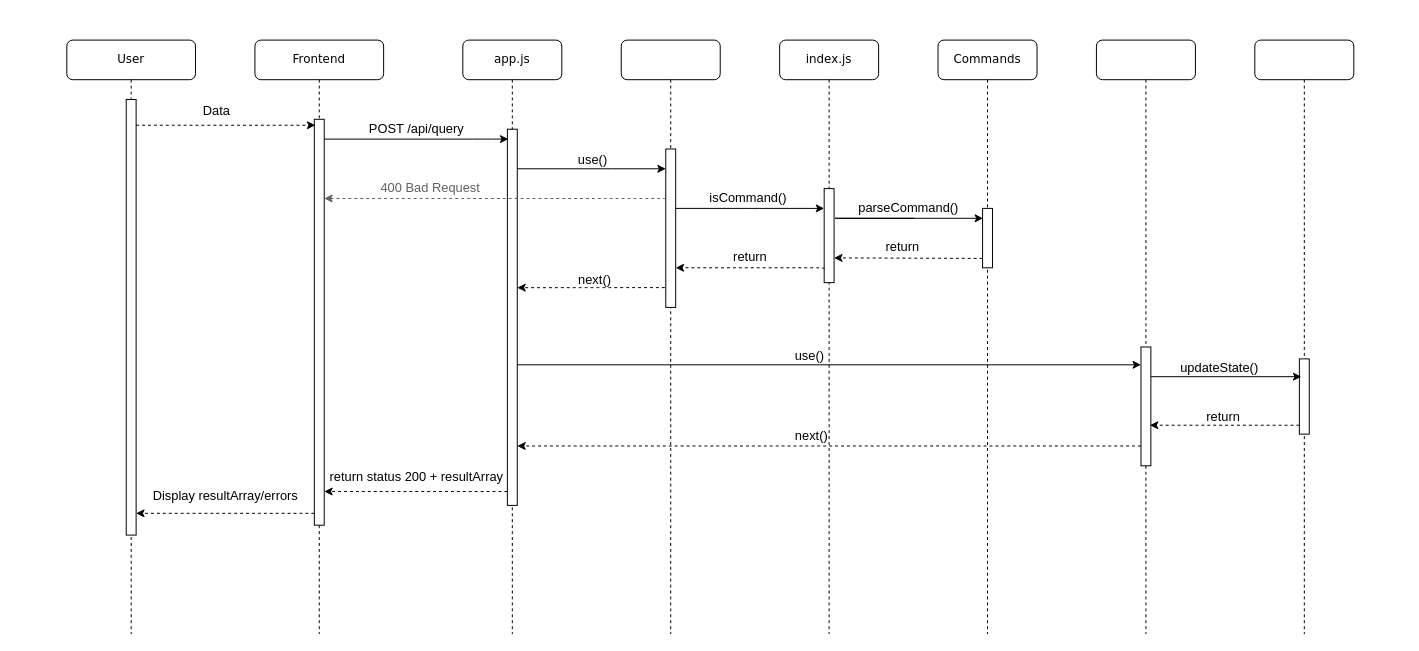
Image size: 1419x651. Some labels were removed from this diagram. The box of each missing label's shape, as (x1, y1, x2, y2) in pixels:
executer.js: (1095, 39, 1195, 634)
parser.js: (620, 39, 720, 634)
state.js: (1254, 39, 1354, 634)
